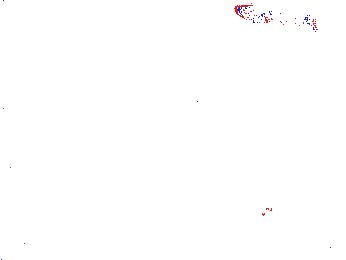redtail glassfish: (234, 3, 323, 36)
